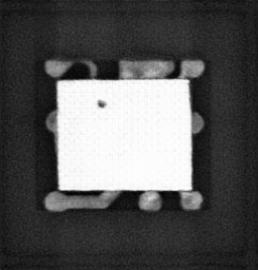DIE_INK: (95, 97, 110, 110)
